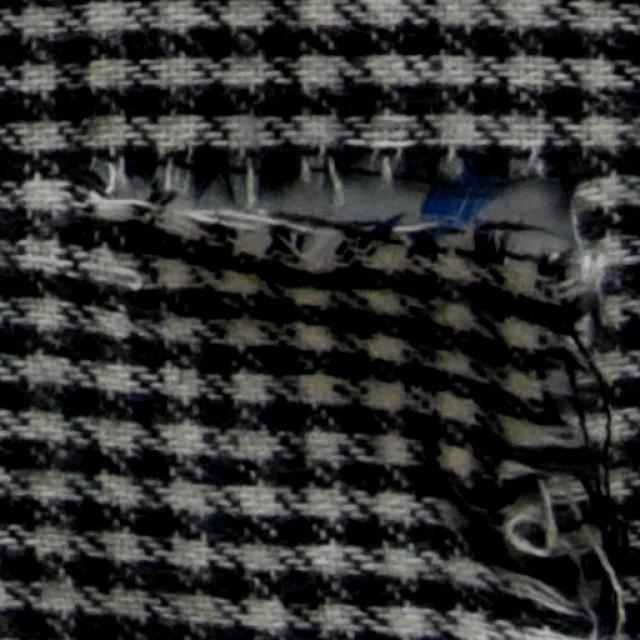Hole: (121, 171, 578, 225)
Snag: (494, 210, 639, 639)
